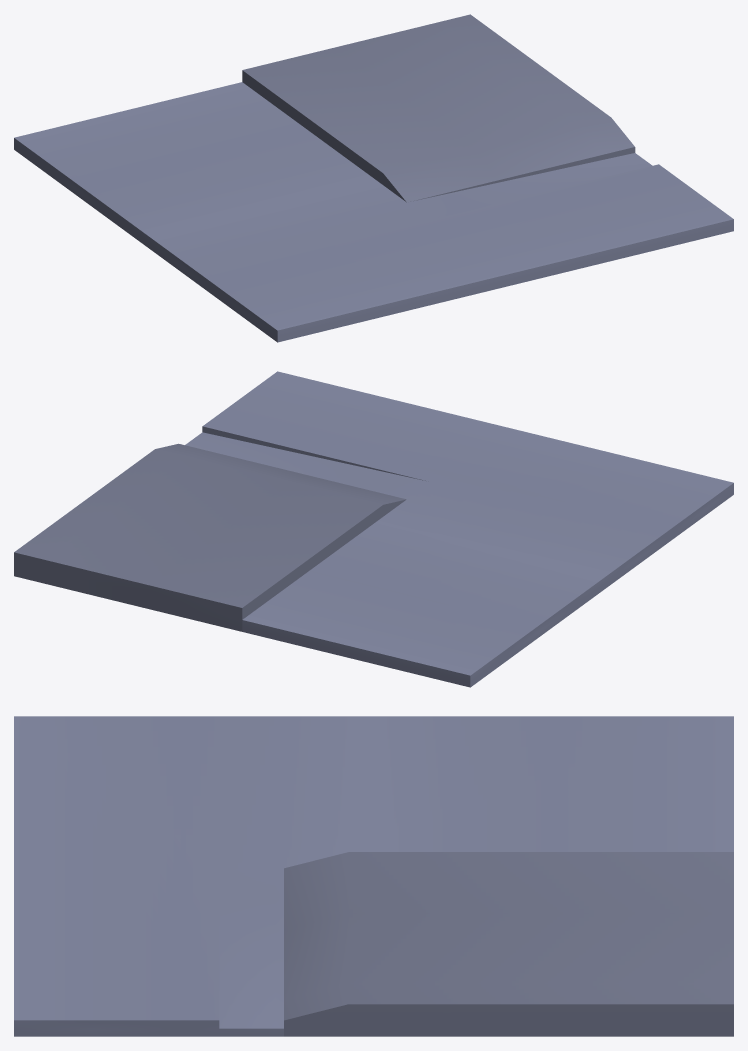
The model's file is roadCurbEnd.fbx.
3 views of the same model, one above another, from view 1: azimuth 30°, elevation 25°; view 2: azimuth 150°, elevation 25°; view 3: azimuth 270°, elevation 25° (orthographic). The views are drawn at different scales.
Parts seen in each view (by area): view 1: roadCurbEnd; view 2: roadCurbEnd; view 3: roadCurbEnd.
Boxes of the visible parts, x1,y1,x2,y2 form: roadCurbEnd: (14, 14, 733, 342); roadCurbEnd: (14, 371, 733, 687); roadCurbEnd: (14, 716, 733, 1036).
Size of the model in its own units: 1 by 1 by 0.05.
